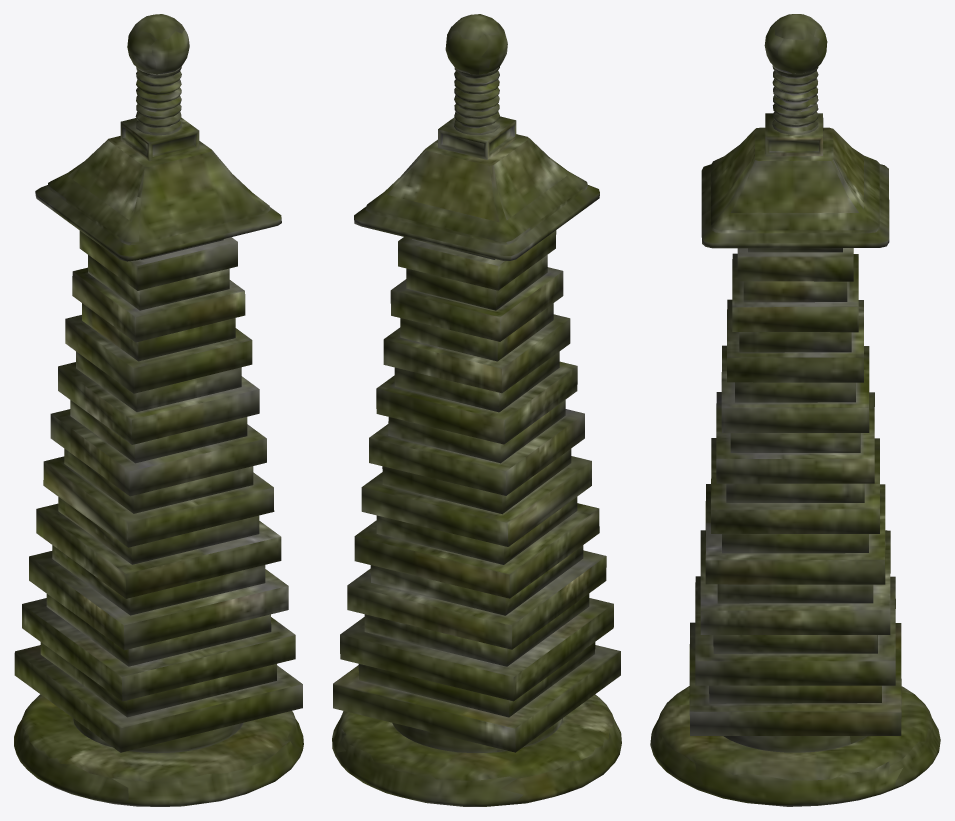
Rendered from jp_stupa_2.glb.
The picture shows the model from 3 angles, left to right: view 1: azimuth 30°, elevation 25°; view 2: azimuth 150°, elevation 25°; view 3: azimuth 270°, elevation 25°; orthographic projection.
Visible parts, largest first — view 1: Stone_Lantern_3; view 2: Stone_Lantern_3; view 3: Stone_Lantern_3.
Boxes of the visible parts, x1,y1,x2,y2 form: Stone_Lantern_3: (14, 14, 303, 806); Stone_Lantern_3: (332, 14, 621, 806); Stone_Lantern_3: (650, 14, 940, 806).
Size of the model in its own units: 1.15 by 3.2 by 1.15.
1 material, 1 textured.
